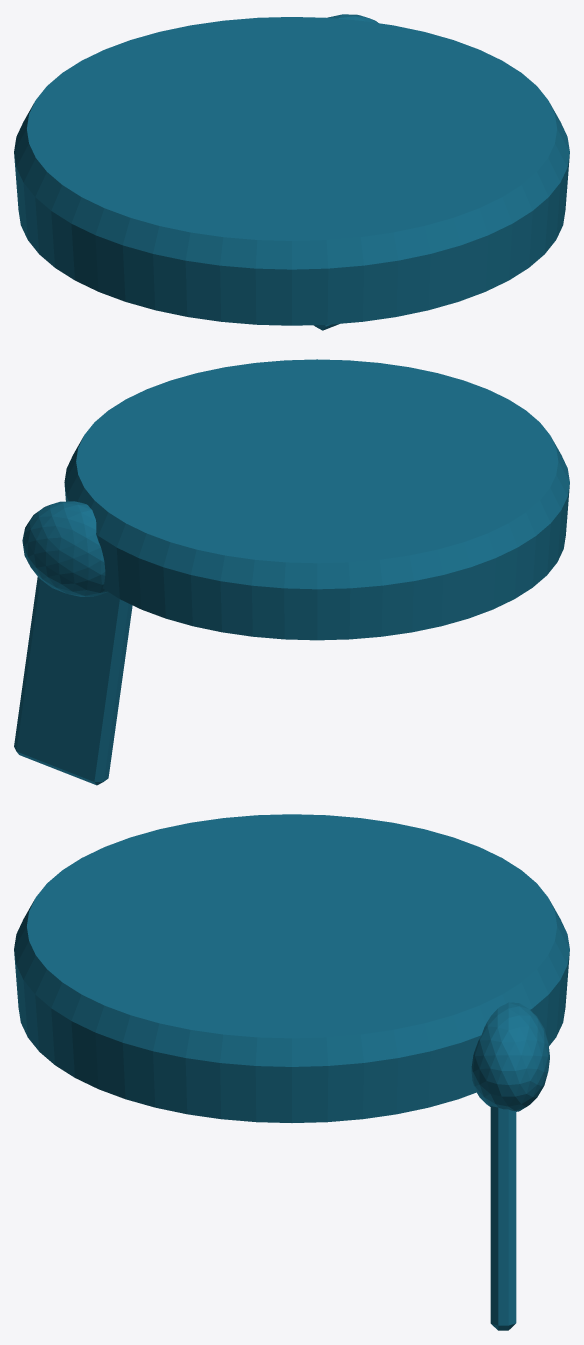
The model's file is Scarf.glb.
3 views of the same model, one above another, from view 1: azimuth 30°, elevation 25°; view 2: azimuth 150°, elevation 25°; view 3: azimuth 270°, elevation 25° (orthographic). The views are drawn at different scales.
Visible parts, largest first — view 1: geometry_0; view 2: geometry_0; view 3: geometry_0.
Boxes of the visible parts, x1,y1,x2,y2 form: geometry_0: [14, 14, 569, 330]; geometry_0: [14, 359, 569, 785]; geometry_0: [14, 814, 569, 1330].
Size of the model in its own units: 0.868 by 0.5339 by 0.868.
